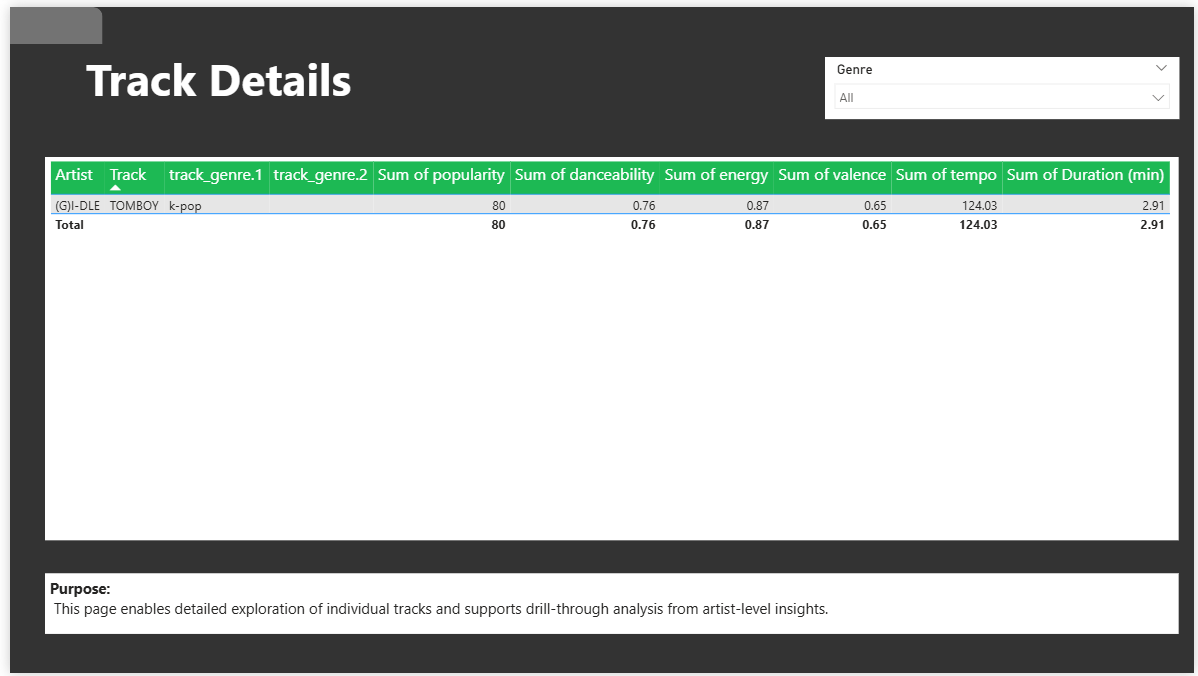

This screenshot's page, from the dashboard's own definition file:
{"tool":"powerbi","page":{"name":"Track Details","canvas":[1280,720],"ordinal":4},"visuals":[{"type":"textbox","box":[76.8,39.8,360.9,107],"z":0},{"type":"tableEx","fields":{"Values":["Spotify_Tracks.Artist","Spotify_Tracks.Track","Spotify_Tracks.track_genre.1","Spotify_Tracks.track_genre.2","Sum(Spotify_Tracks.popularity)","Sum(Spotify_Tracks.danceability)","Sum(Spotify_Tracks.energy)","Sum(Spotify_Tracks.valence)","Sum(Spotify_Tracks.tempo)","Sum(Spotify_Tracks.Duration (min))"]},"box":[38.4,161.9,1225.4,414.4],"z":1000},{"type":"slicer","fields":{"Values":["Spotify_Tracks.track_genre.1","Spotify_Tracks.track_genre.2"]},"box":[881,53.5,382.8,67.2],"z":2000},{"type":"textbox","box":[38.4,612,1225.4,65.9],"z":3000},{"type":"actionButton","box":[0,0,100,40],"z":4000}]}

Visuals, with their boxes in screenshot pixels (x1, y1, x2, y2), scaled from the page's 1280x720 canvas onto the 1198x676 screenshot:
textbox: 72 37 410 138
tableEx - Spotify_Tracks.Artist x Spotify_Tracks.Track: 36 152 1183 541
slicer - Spotify_Tracks.track_genre.1 x Spotify_Tracks.track_genre.2: 825 50 1183 113
textbox: 36 575 1183 636
actionButton: 0 0 94 38
